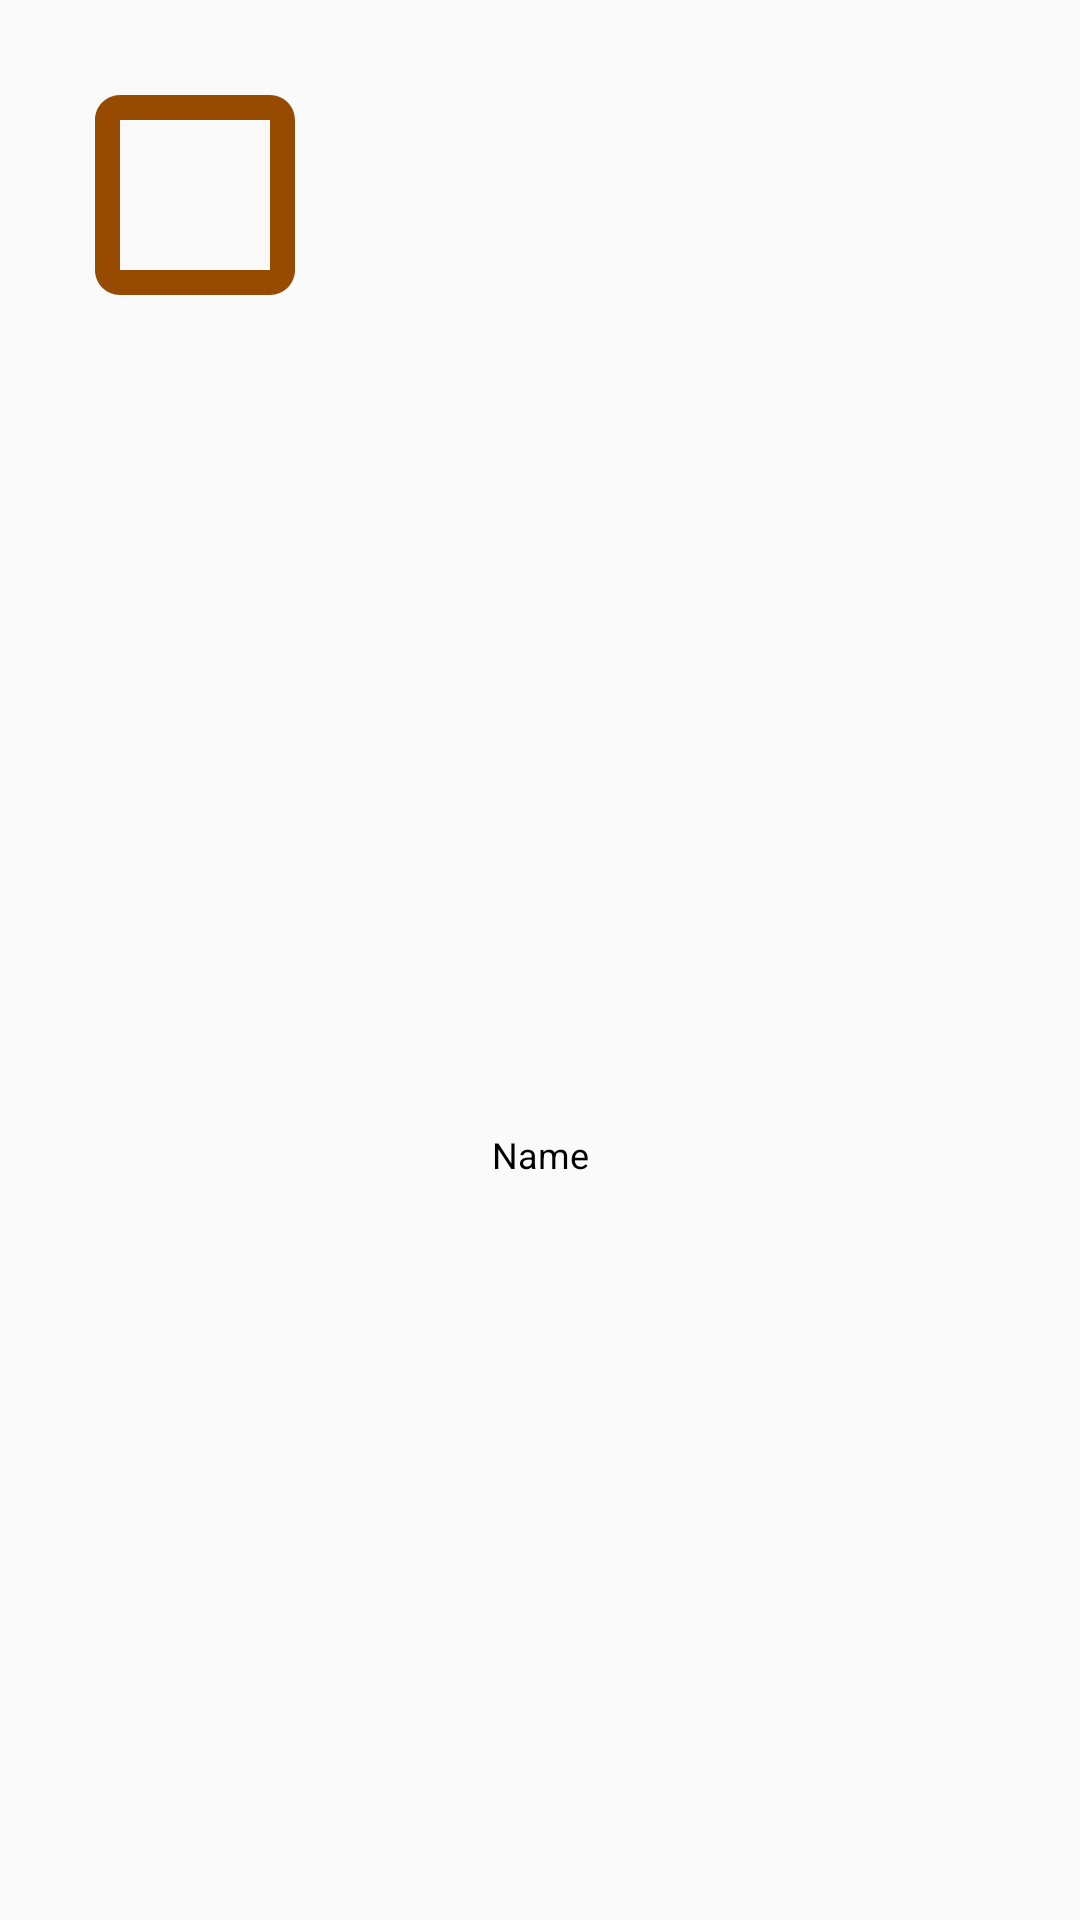

Locate icon controls on the screen. Image size 1080 x 1920, boxes as bbox(x1, y1, x2, y2).
crop square: bbox(95, 95, 295, 295)
